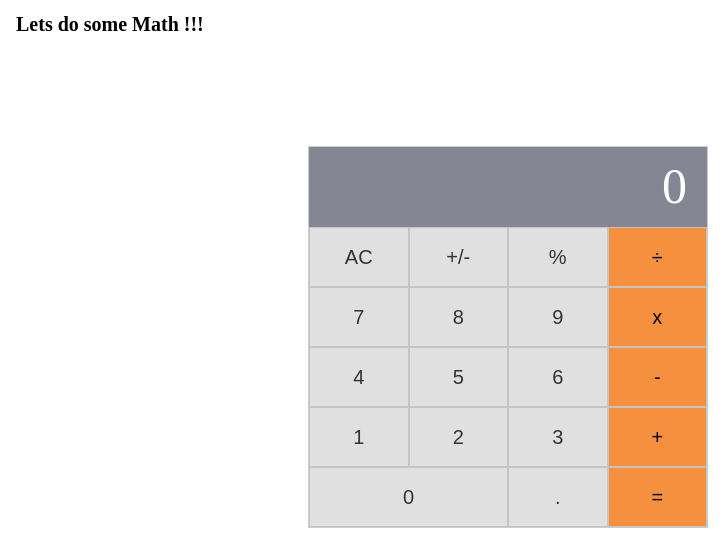
App interaction › displays the right key pn the screen when clicked
The width and height of the screenshot is (725, 545).
Click the button "1" at [359, 437], box [309,407,408,467]
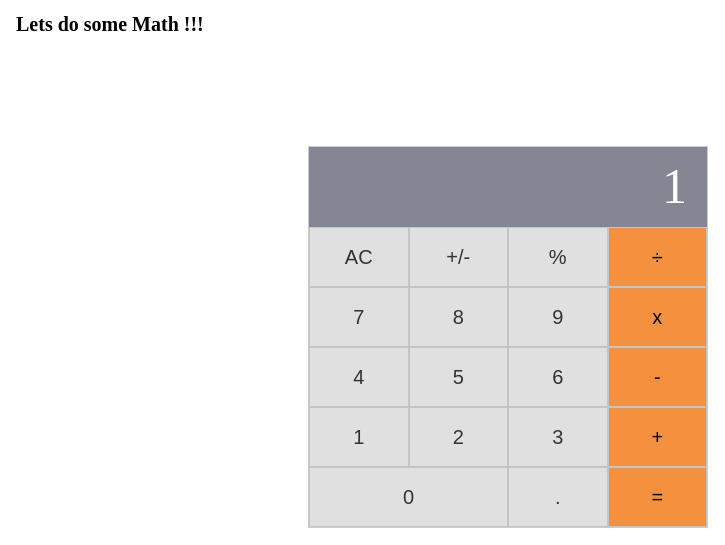
Now the text with class "calculator-screen" reads "1", box [662,158,687,214]
